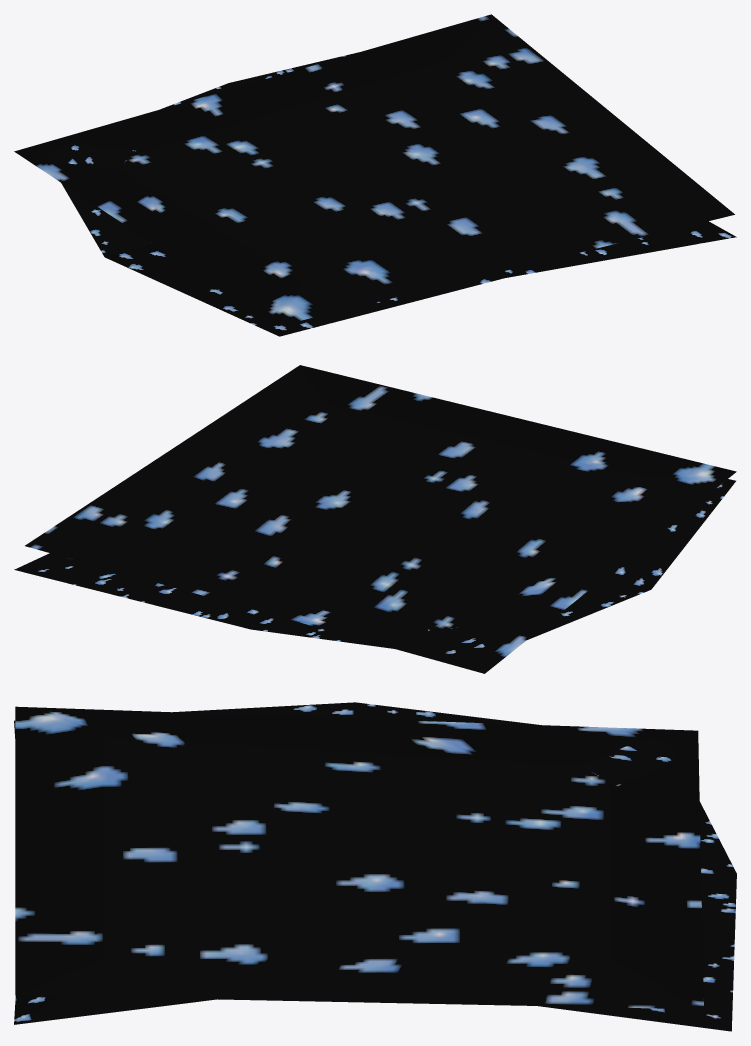
The picture shows the model from 3 angles, top to bottom: view 1: azimuth 30°, elevation 25°; view 2: azimuth 150°, elevation 25°; view 3: azimuth 270°, elevation 25°; orthographic projection. The views are drawn at different scales.
Parts seen in each view (by area): view 1: 1040; view 2: 1040; view 3: 1040.
Boxes of the visible parts, left/top/right/bottom form: 1040: left=14, top=14, right=736, bottom=336; 1040: left=14, top=365, right=736, bottom=673; 1040: left=14, top=702, right=736, bottom=1031.
Bounding box in the file's own units: 1.71 × 0.0855 × 1.59.
1 material, 1 textured.
